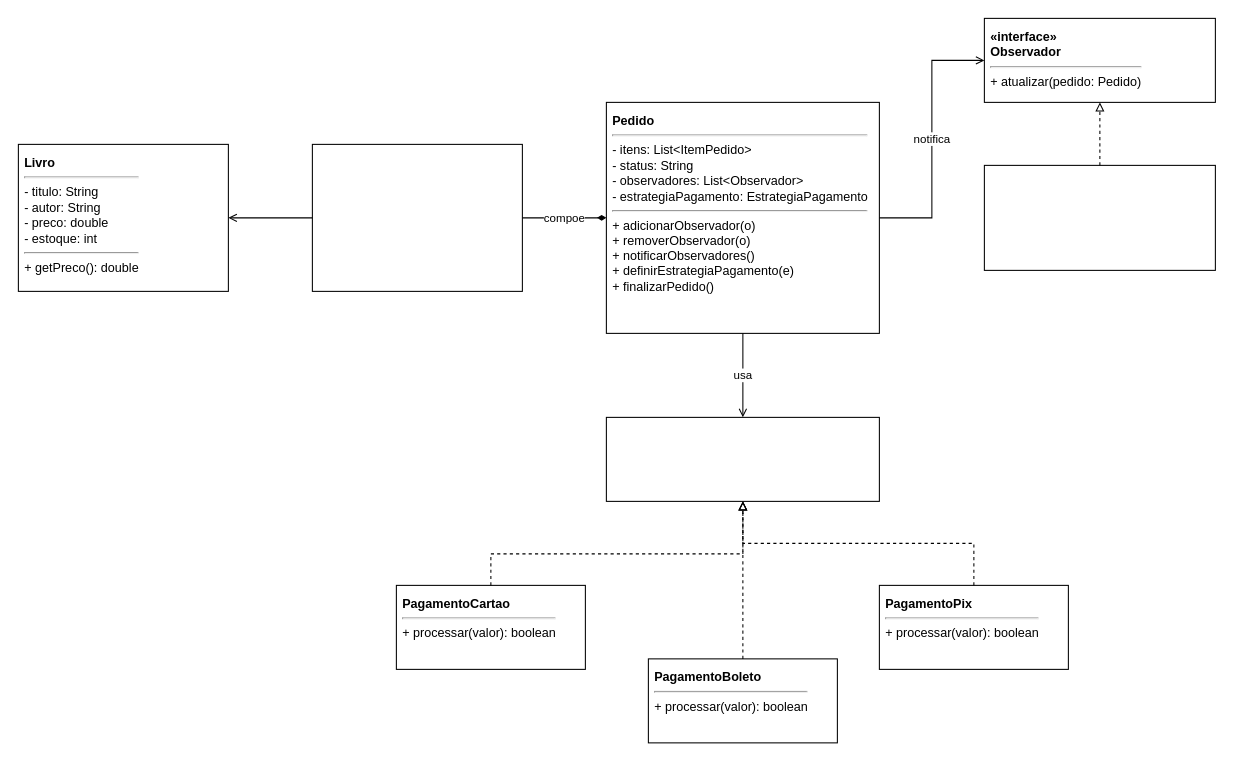
Image size: 1234x761. Some labels were removed from this diagram. Each missing label, with the box of its shape:
Cliente - nome: String - email: String + atualizar(pedido: Pedido): (983, 164, 1215, 270)
ItemPedido - livro: Livro - quantidade: int + getSubtotal(): double: (311, 143, 522, 291)
«interface» EstrategiaPagamento + processar(valor: double): boolean: (605, 416, 879, 501)
